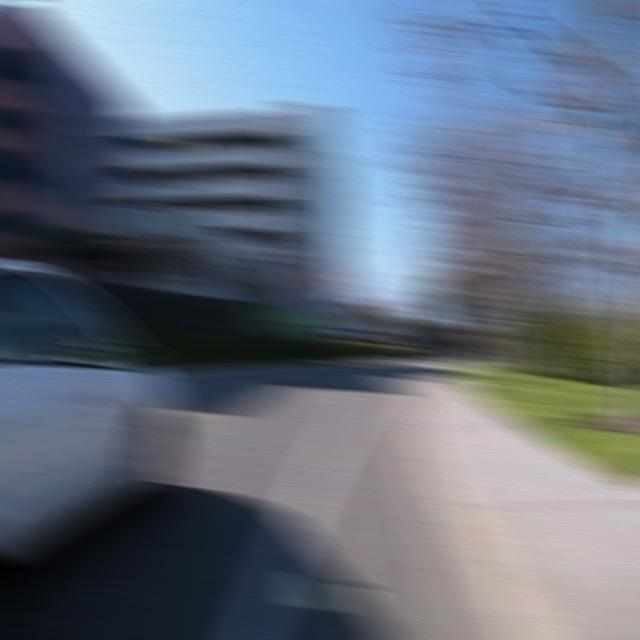speedLimit35: (482, 283, 526, 325)
